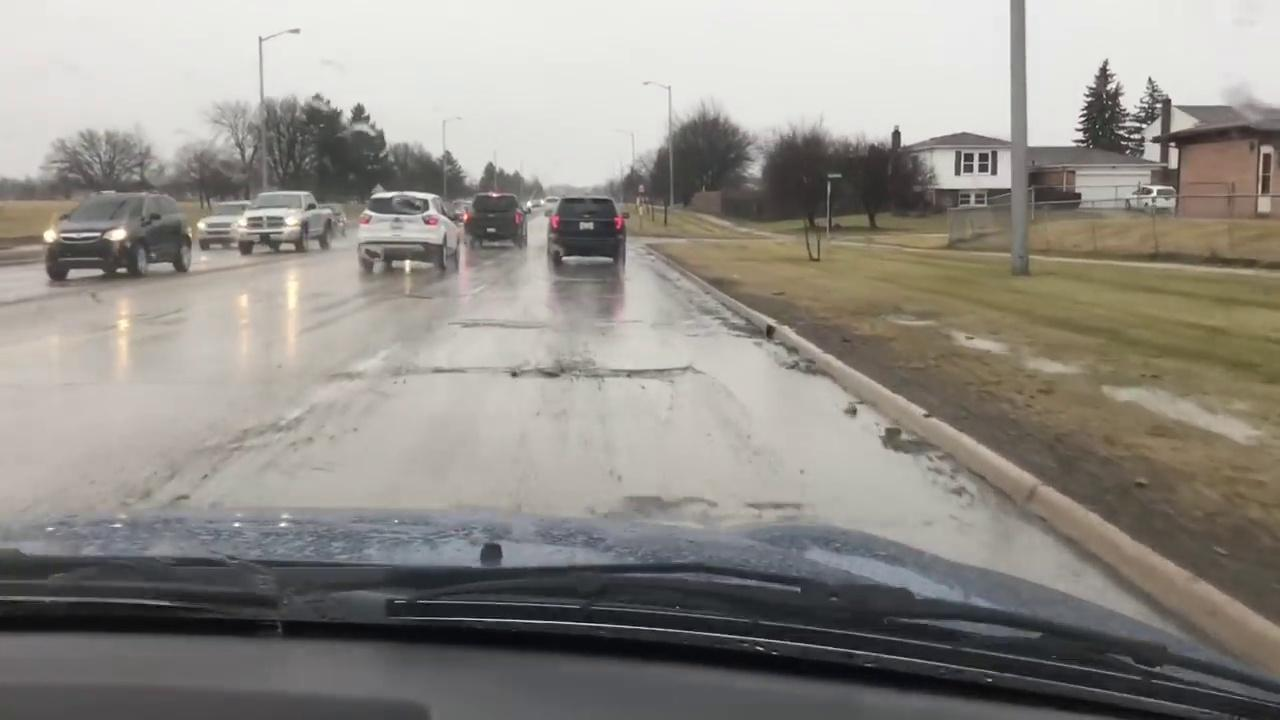pothole: (392, 359, 702, 379), (765, 325, 775, 339)
